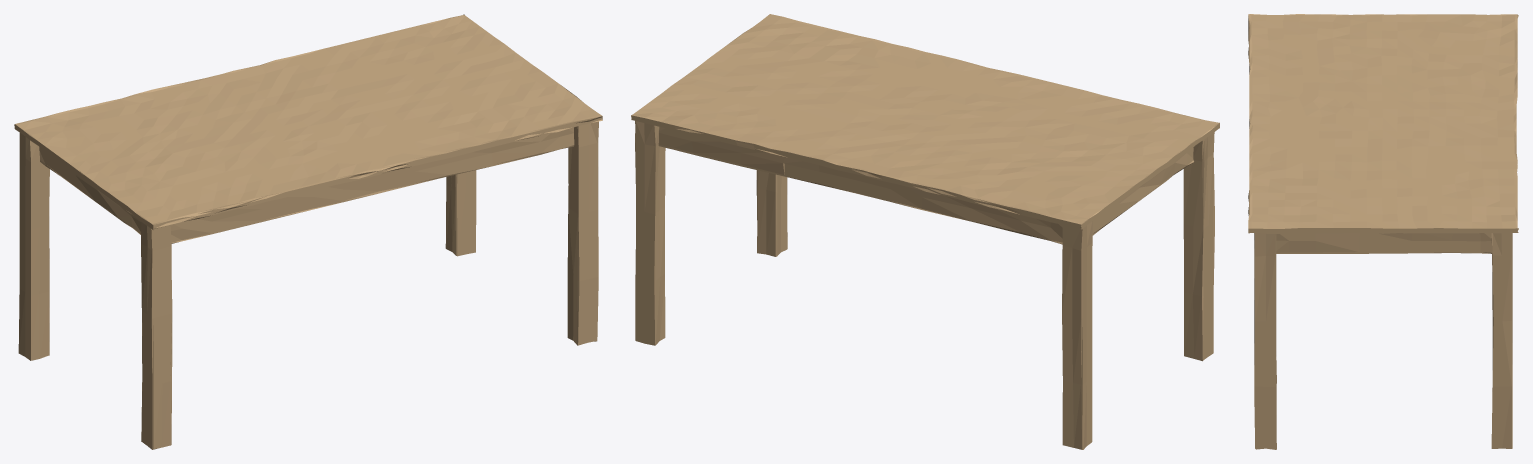
Rendered from gen-dining-table-rect-1.glb.
The picture shows the model from 3 angles, left to right: view 1: azimuth 30°, elevation 25°; view 2: azimuth 150°, elevation 25°; view 3: azimuth 270°, elevation 25°; orthographic projection. The views are drawn at different scales.
Parts seen in each view (by area): view 1: gen-dining-table-rect-1_part1; view 2: gen-dining-table-rect-1_part1; view 3: gen-dining-table-rect-1_part1.
Part boxes in pixels (<box>): gen-dining-table-rect-1_part1: <box>14,14,602,449</box>; gen-dining-table-rect-1_part1: <box>631,14,1219,449</box>; gen-dining-table-rect-1_part1: <box>1248,14,1518,449</box>.
Size of the model in its own units: 1536 by 750 by 822.
